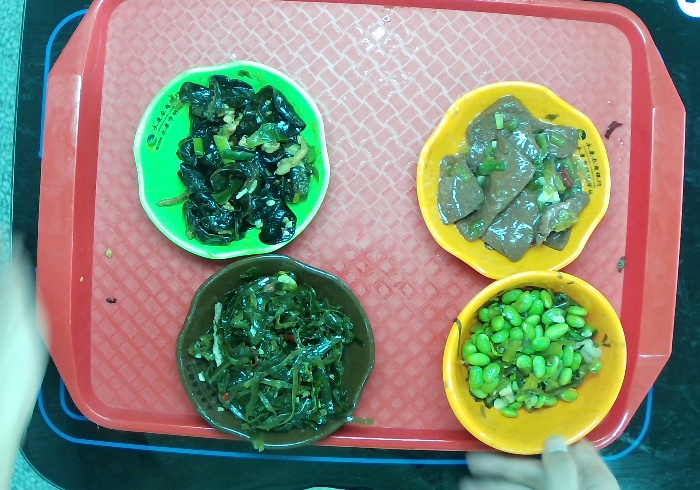YKMZ-Ju_Se_Ao_Bian_Wan: (419, 80, 615, 278)
YKMZ-Ju_Se_Yuan_Wan: (436, 262, 636, 465)
YKMZ-Ka_Fei_Ao_Bian_Wan: (179, 254, 375, 451)
YKMZ-Lv_Se_Ao_Bian_Wan: (134, 60, 334, 264)
